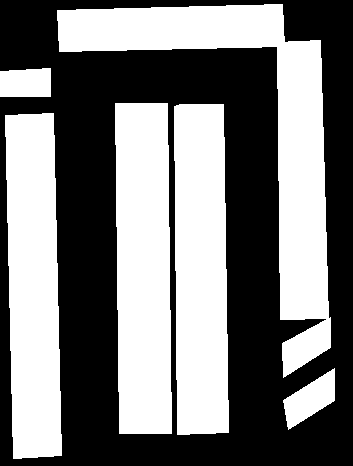parkingspot: (5, 113, 61, 458), (115, 103, 171, 433), (174, 104, 228, 434), (277, 40, 328, 319), (57, 4, 284, 51), (283, 368, 334, 429), (282, 317, 330, 377), (0, 68, 50, 96)
